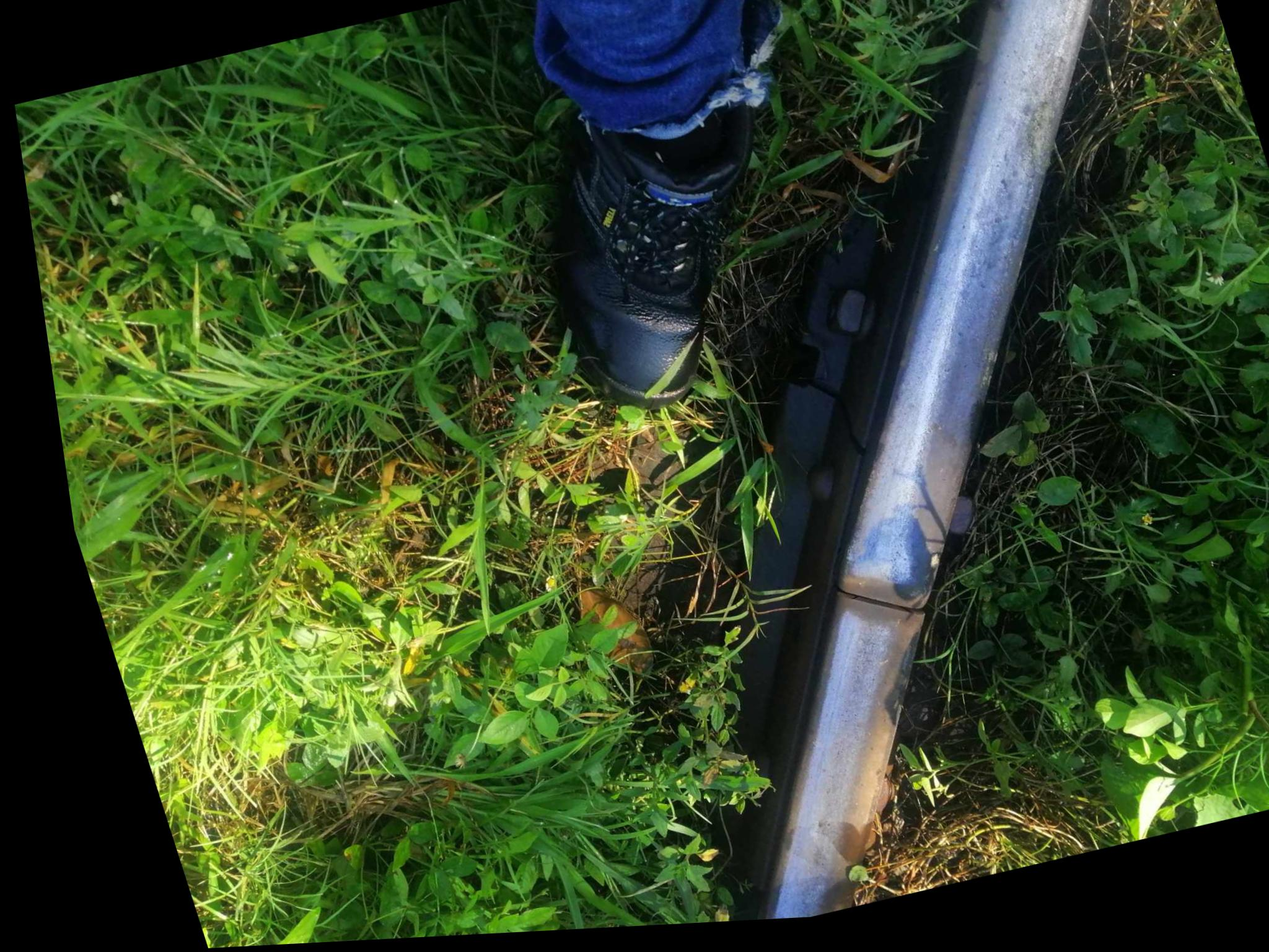person: (771, 532, 954, 698)
